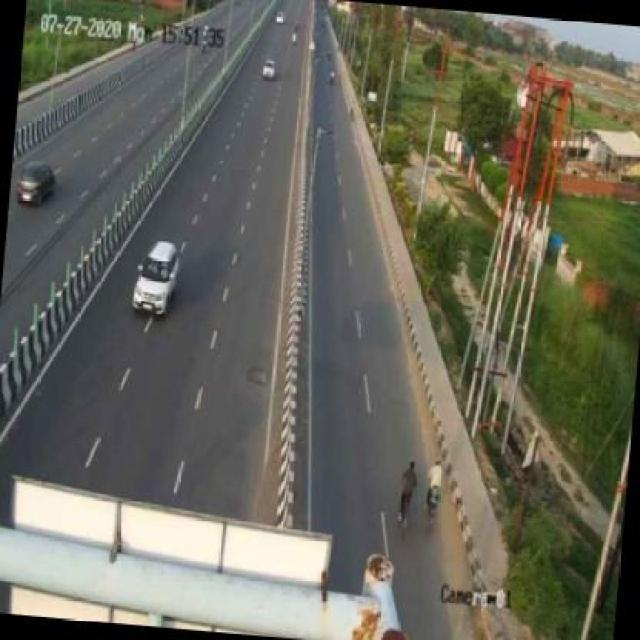car: (132, 240, 183, 323), (15, 154, 66, 208), (254, 56, 283, 84)
